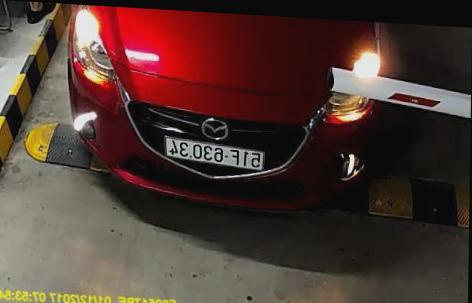License_Plate: (165, 138, 268, 172)
